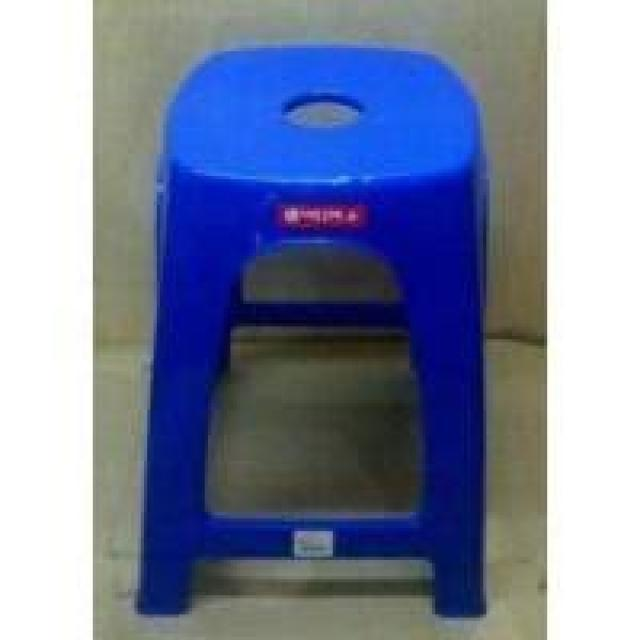chair: (117, 18, 522, 640)
